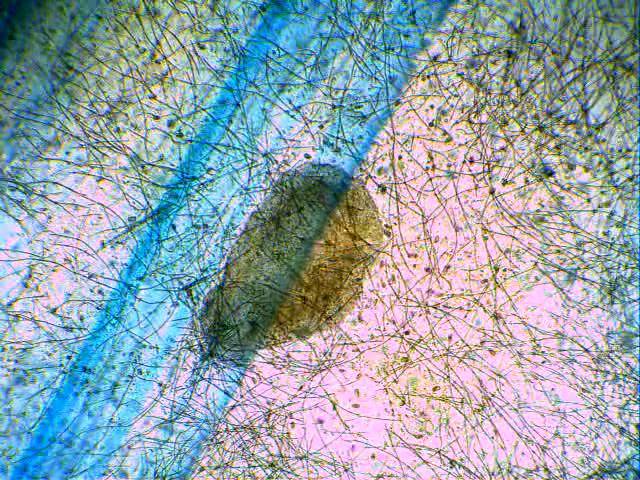Placozoan: (195, 162, 384, 355)
